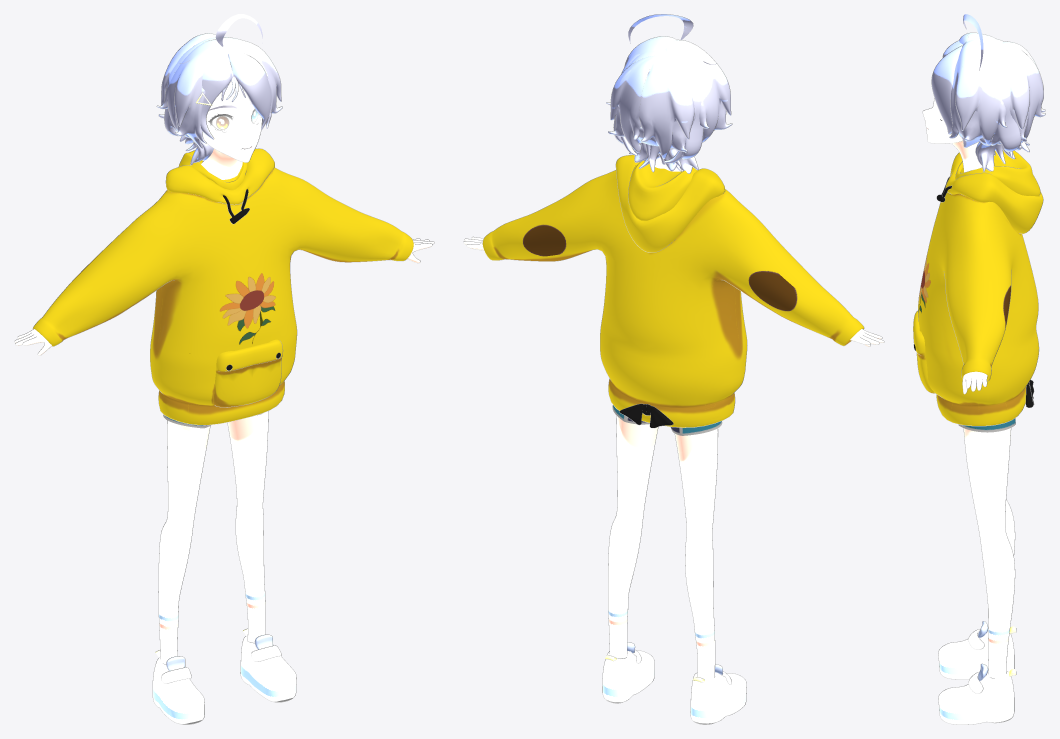
File: asset.gltf
The picture shows the model from 3 angles, left to right: view 1: azimuth 30°, elevation 25°; view 2: azimuth 150°, elevation 25°; view 3: azimuth 270°, elevation 25°; orthographic projection.
Visible parts, largest first — view 1: AiOhtoLow_0; view 2: AiOhtoLow_0; view 3: AiOhtoLow_0.
Part boxes in pixels (left/top/right/bottom): AiOhtoLow_0: left=14, top=14, right=434, bottom=724; AiOhtoLow_0: left=463, top=14, right=884, bottom=724; AiOhtoLow_0: left=913, top=14, right=1045, bottom=724.
Size of the model in its own units: 0.9269 by 1.45 by 0.2546.
13 materials, 1 textured.
